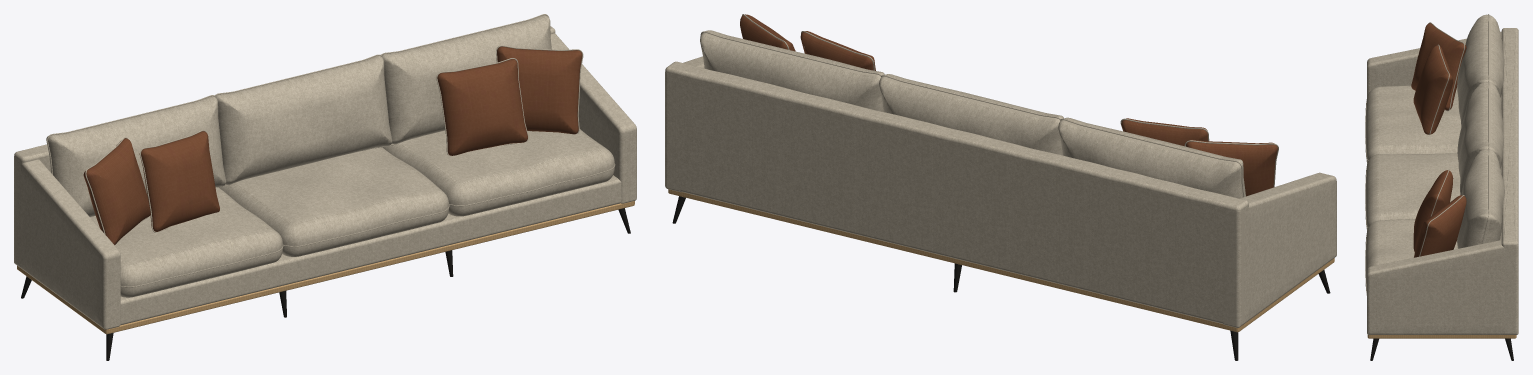
Rendered from straight.glb.
3 renders of one model, left to right at view 1: azimuth 30°, elevation 25°; view 2: azimuth 150°, elevation 25°; view 3: azimuth 270°, elevation 25°, orthographic. The views are drawn at different scales.
Visible parts, largest first — view 1: fabric (×2), accent, trim, pillows, legs; view 2: fabric (×2), accent, trim, pillows, legs; view 3: fabric (×2), accent, trim, pillows, legs.
Part boxes in pixels (bbox=[...]): fabric (×2): bbox=[14, 14, 636, 329]; accent: bbox=[83, 46, 582, 244]; trim: bbox=[17, 201, 634, 334]; pillows: bbox=[85, 45, 583, 236]; legs: bbox=[21, 208, 630, 360]; fabric (×2): bbox=[665, 30, 1336, 327]; accent: bbox=[740, 14, 1277, 196]; trim: bbox=[668, 189, 1334, 332]; pillows: bbox=[742, 14, 1278, 187]; legs: bbox=[672, 196, 1330, 360]; fabric (×2): bbox=[1365, 14, 1518, 334]; accent: bbox=[1411, 23, 1466, 257]; trim: bbox=[1367, 335, 1516, 338]; pillows: bbox=[1419, 22, 1464, 256]; legs: bbox=[1370, 338, 1513, 360].
Size of the model in its own units: 3 by 0.9163 by 0.9017.
Materials: 5 (5 with a texture image).
